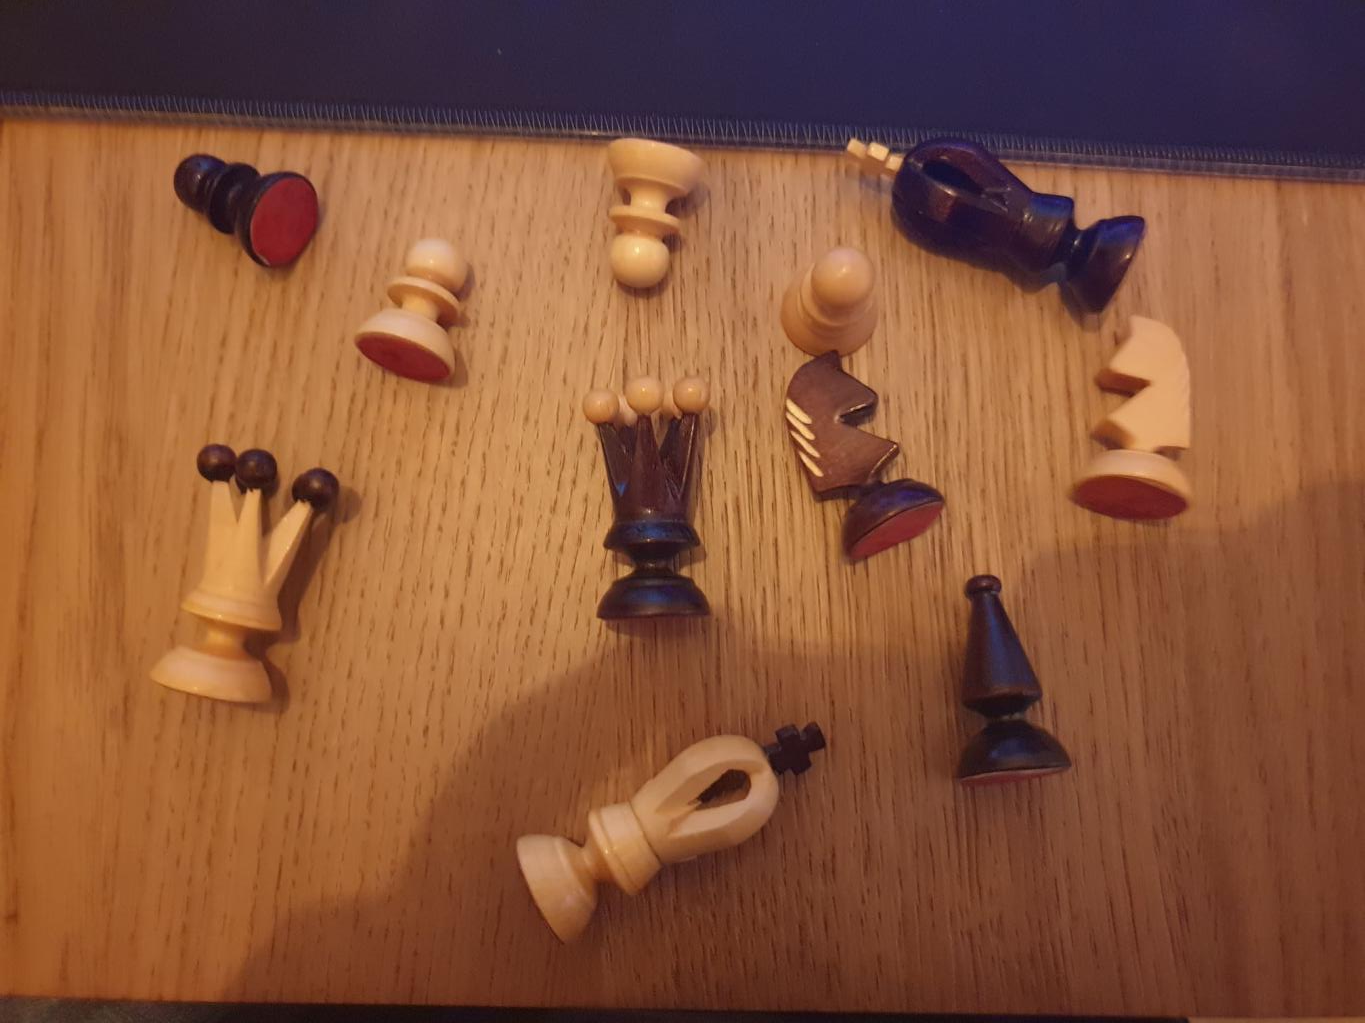bbishop: (946, 565, 1076, 786)
bking: (839, 123, 1150, 316)
bknight: (776, 348, 951, 559)
bpawn: (173, 145, 324, 273)
bqueen: (579, 368, 727, 625)
wking: (504, 708, 838, 948)
wknight: (1065, 307, 1199, 531)
wpawn: (595, 135, 704, 299), (357, 237, 470, 389), (775, 240, 880, 359)
wqueen: (148, 440, 341, 717)
